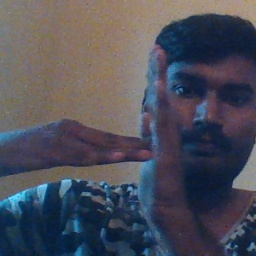Z: (68, 42, 183, 218)
